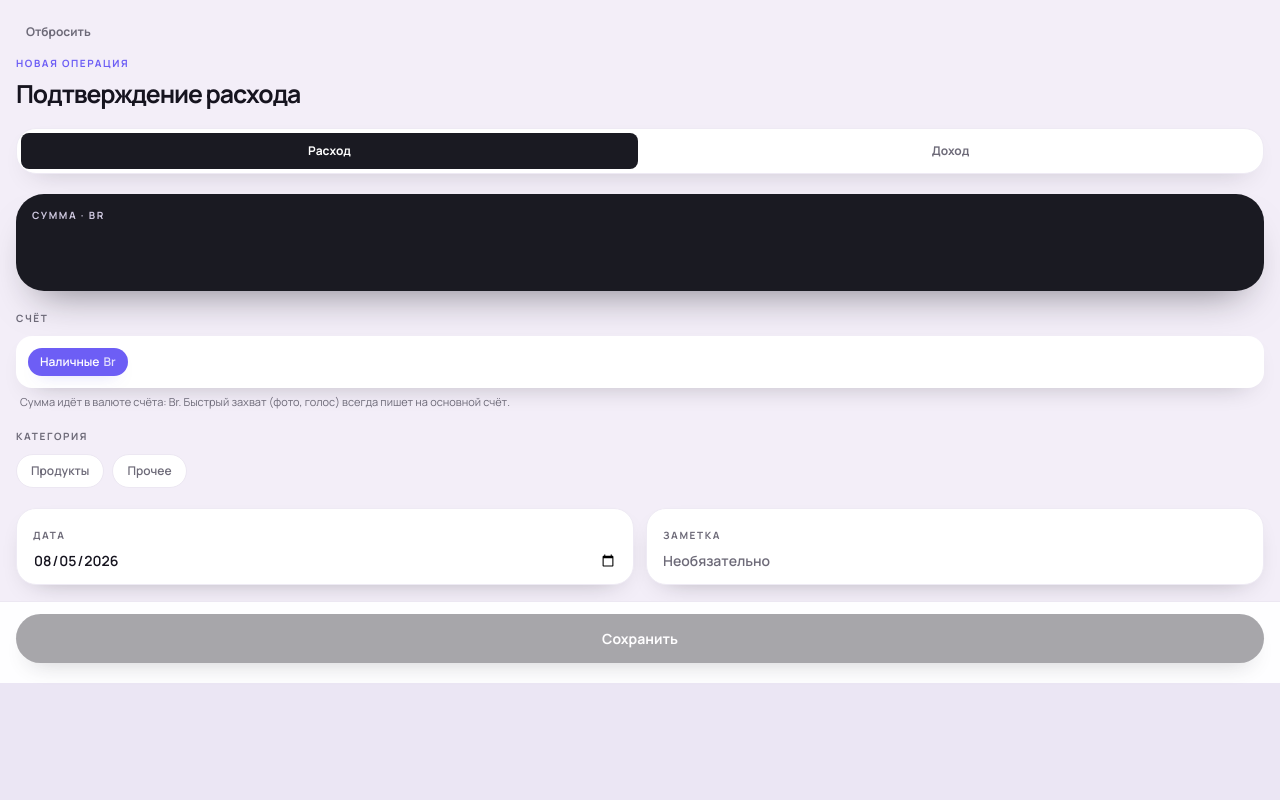
Test case: ConfirmDraft › manual: shows kind switch so type pick is not a separate screen
Click the button "Доход": click(950, 151) [642,133,1259,169]
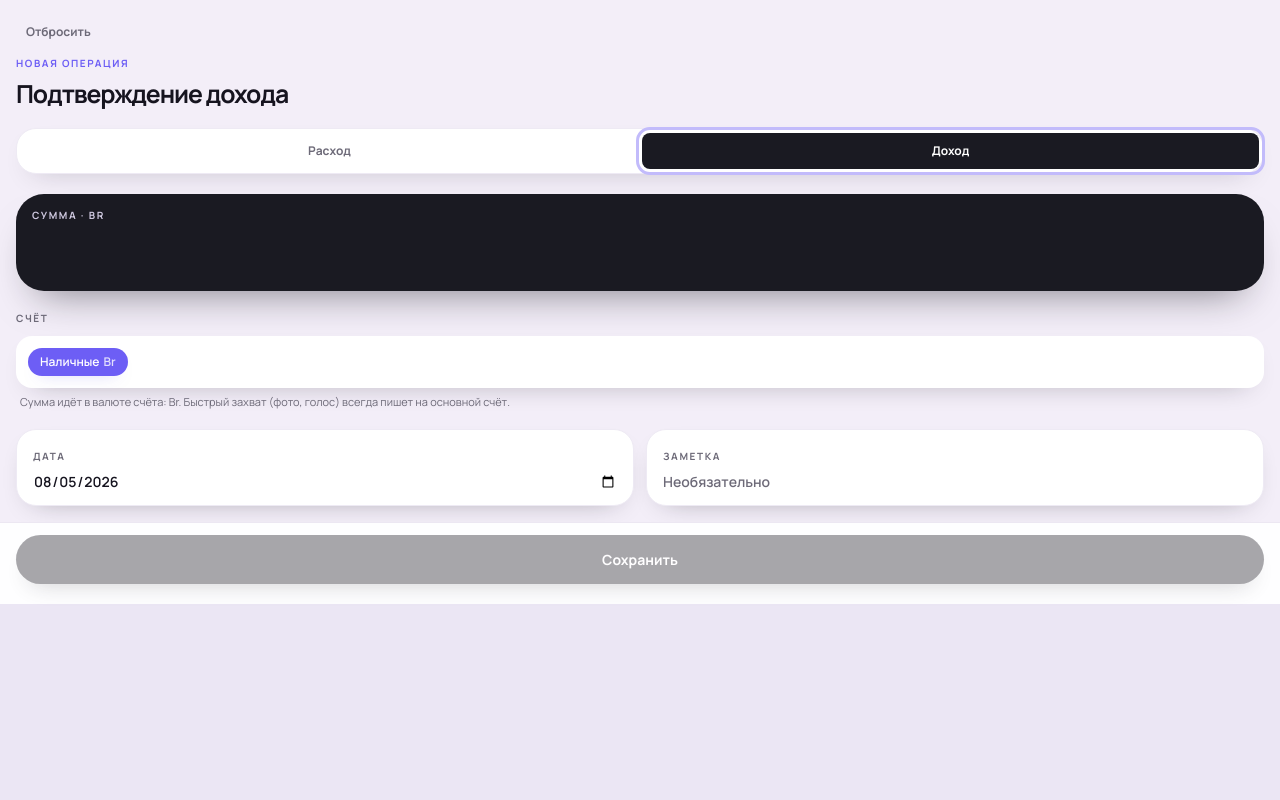
Expected: the heading "Подтверждение дохода" is shown, [16,77,288,110]
Expected: the text "Категория" is gone
